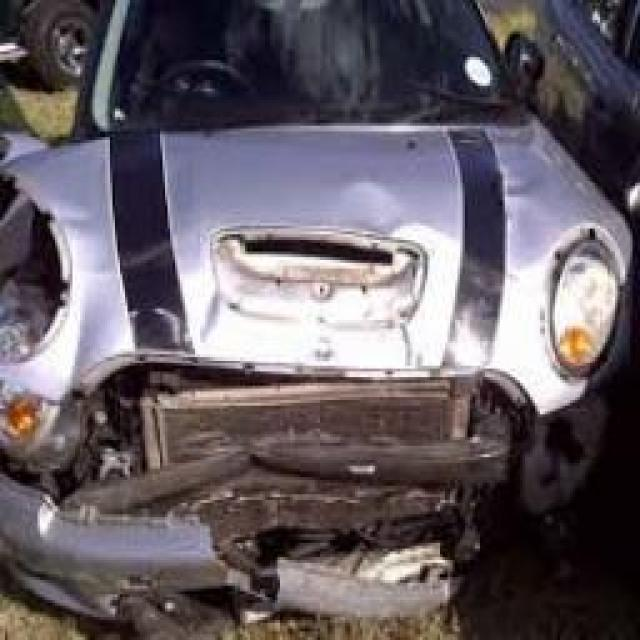Bonnet: (5, 113, 622, 406)
Bumper: (0, 369, 640, 640)
Light: (0, 156, 75, 368)
